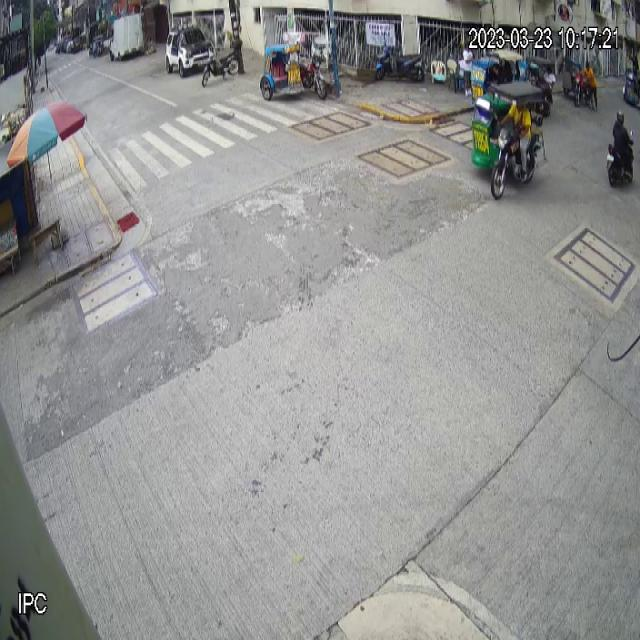Tricycle: (470, 81, 550, 200), (259, 31, 329, 101)
